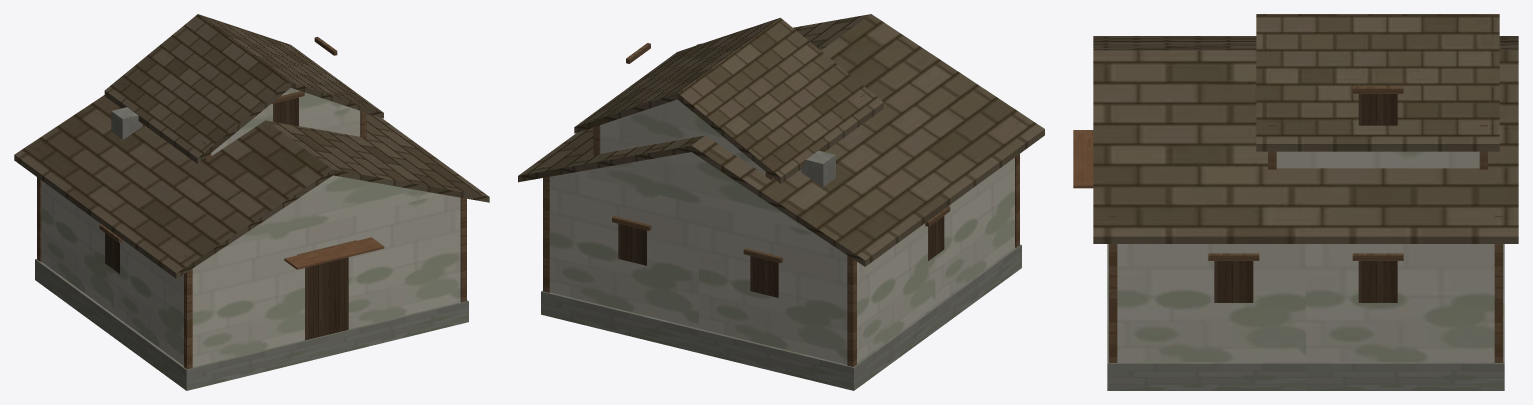
The model's file is ae_forest_stone_large_terrace_lod1.glb.
3 views of the same model, side by side, from view 1: azimuth 30°, elevation 25°; view 2: azimuth 150°, elevation 25°; view 3: azimuth 270°, elevation 25° (orthographic). The views are drawn at different scales.
Parts seen in each view (by area): view 1: ae_forest_stone_large_terrace_lod1; view 2: ae_forest_stone_large_terrace_lod1; view 3: ae_forest_stone_large_terrace_lod1.
Boxes of the visible parts, x1,y1,x2,y2 form: ae_forest_stone_large_terrace_lod1: [14, 14, 489, 390]; ae_forest_stone_large_terrace_lod1: [518, 14, 1044, 390]; ae_forest_stone_large_terrace_lod1: [1073, 14, 1518, 390].
Bounding box in the file's own units: 7.9 × 5.5 × 7.42.
1 material, 1 textured.
